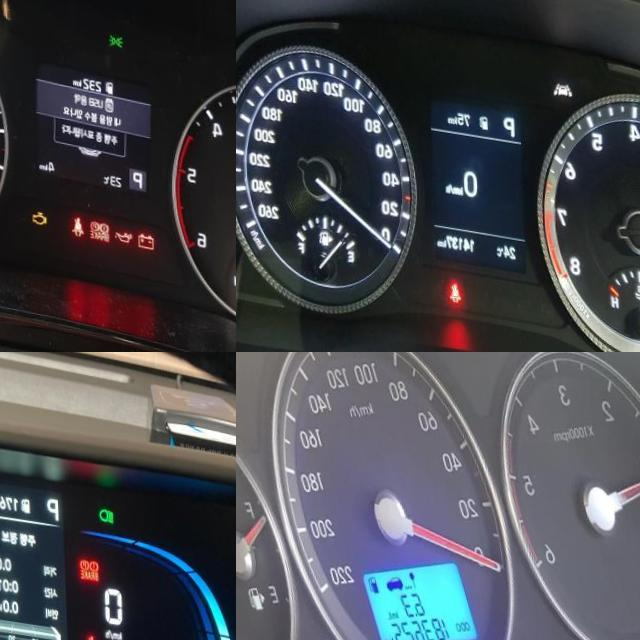LaneCenteringOff: (552, 68, 572, 85)
Low beam: (98, 493, 113, 510)
SideLamp: (107, 22, 123, 39)
